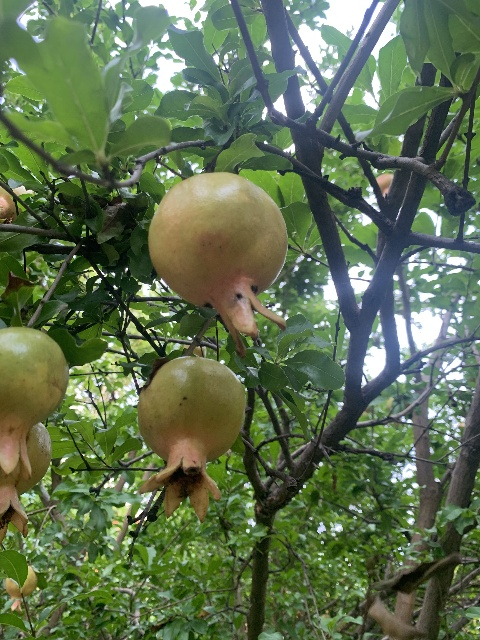mid-growth: (146, 171, 288, 357), (136, 356, 246, 523), (0, 327, 69, 481), (0, 422, 51, 541), (4, 565, 37, 613)
